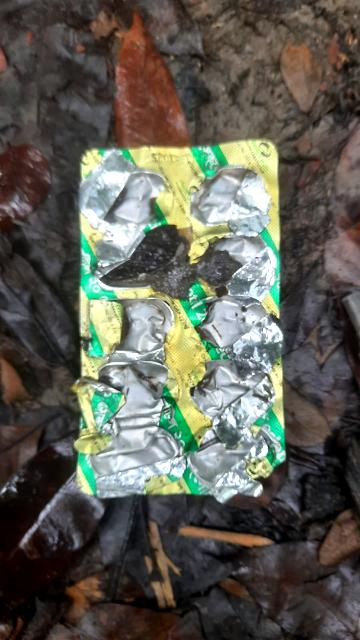medicine: (69, 137, 284, 497)
